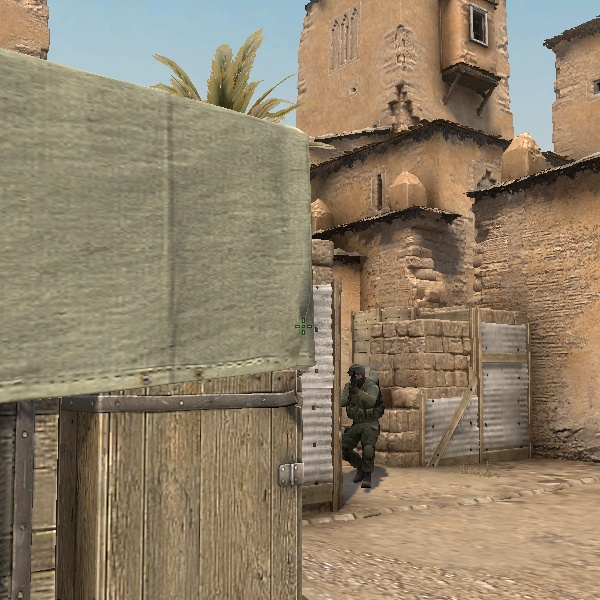ct_body: (330, 363, 389, 491)
ct_head: (347, 363, 368, 389)
